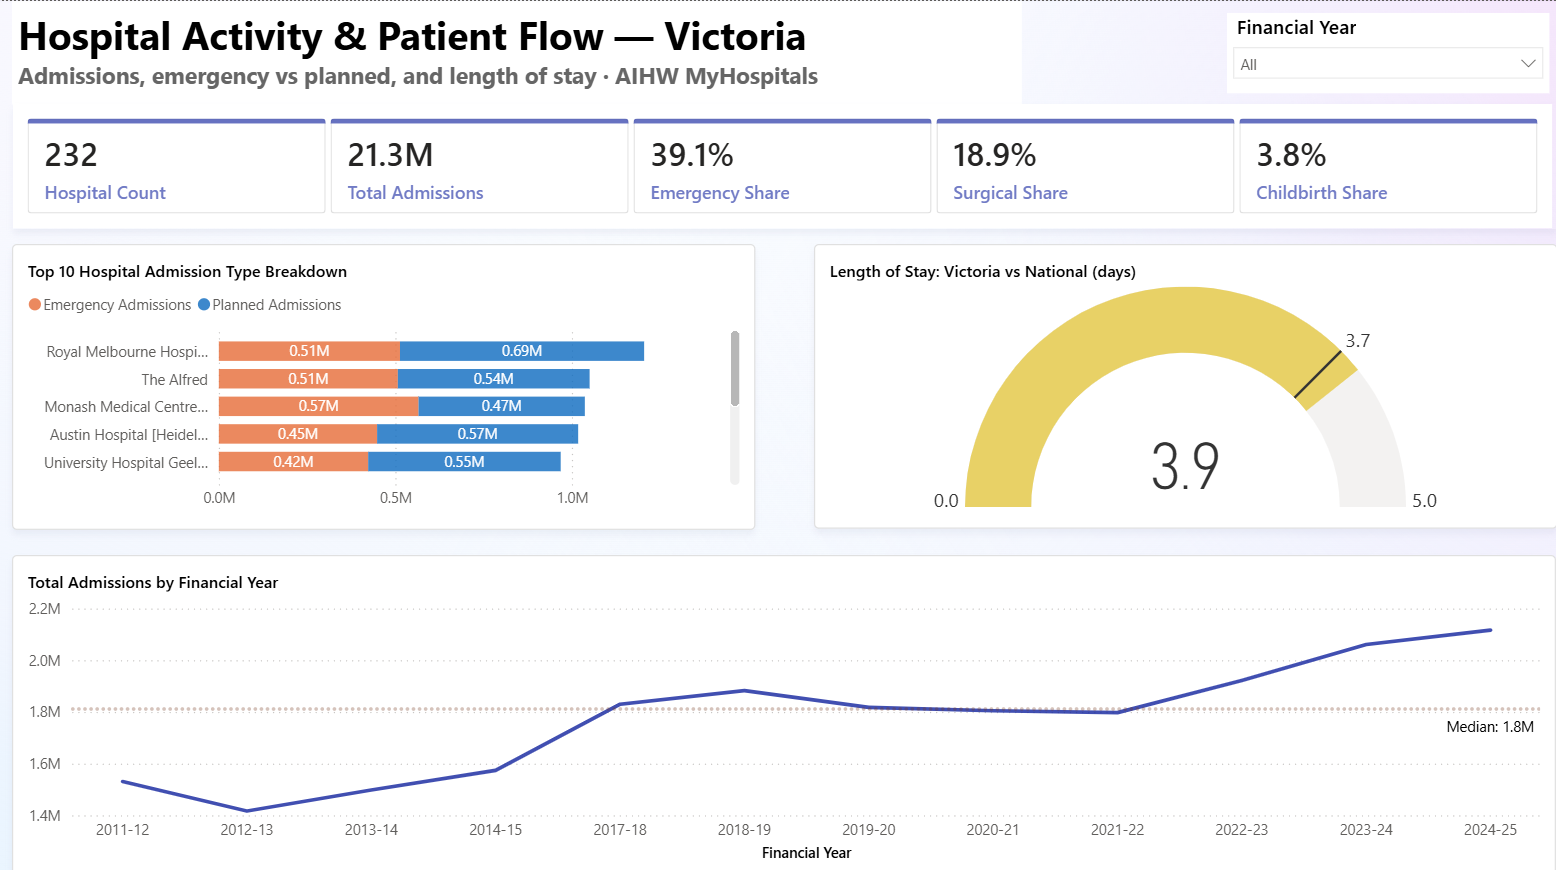

Layout of this report page (visuals, bound fields, positions):
{"tool":"powerbi","page":{"name":"Hospital Activity","canvas":[1280,720],"ordinal":2},"visuals":[{"type":"textbox","box":[10.2,0,830,85.1],"z":0},{"type":"cardVisual","fields":{"Data":["_Measures.Hospital Count","_Measures.Total Admissions","_Measures.Emergency Share %","_Measures.Surgical Share %","_Measures.Childbirth Share %"]},"box":[10.6,85,1269.4,102.8],"z":1000},{"type":"slicer","fields":{"Values":["dim_period.financial_year"]},"box":[1008.5,9.9,264.7,65.8],"z":2000},{"type":"barChart","title":"Top 10  Hospital Admission Type Breakdown","fields":{"Category":["dim_hospital.reporting_unit_name"],"Y":["_Measures.Emergency Admissions","_Measures.Planned Admissions"]},"box":[10,200,611.2,235],"z":3000},{"type":"gauge","title":"Length of Stay: Victoria vs National (days)","fields":{"Y":["_Measures.Length of Stay"],"TargetValue":["_Measures.National Length of Stay"]},"box":[669,199.7,610.7,234.2],"z":4000},{"type":"lineChart","fields":{"Category":["dim_period.financial_year"],"Y":["_Measures.Total Admissions"]},"box":[10,455,1269.1,265],"z":5000}]}

Visuals, with their boxes in screenshot pixels (x1, y1, x2, y2), scaled from the page's 1280x720 canvas onto the 1556x870 screenshot:
textbox: box=[12, 0, 1021, 103]
cardVisual - _Measures.Hospital Count x _Measures.Total Admissions: box=[13, 103, 1555, 227]
slicer - dim_period.financial_year: box=[1226, 12, 1548, 91]
"Top 10  Hospital Admission Type Breakdown" barChart: box=[12, 242, 755, 526]
"Length of Stay: Victoria vs National (days)" gauge: box=[813, 241, 1555, 524]
lineChart - dim_period.financial_year x _Measures.Total Admissions: box=[12, 550, 1555, 869]
